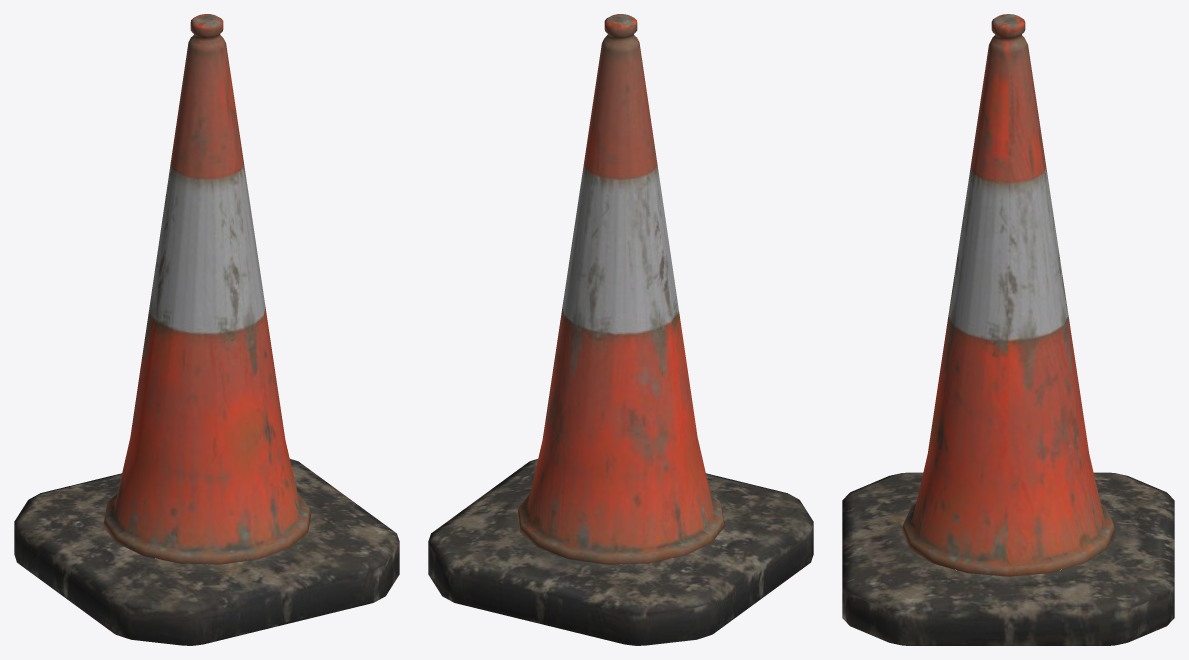
Rendered from road_cone.glb.
3 renders of one model, left to right at view 1: azimuth 30°, elevation 25°; view 2: azimuth 150°, elevation 25°; view 3: azimuth 270°, elevation 25°, orthographic. The views are drawn at different scales.
Visible parts, largest first — view 1: road_cone_a_LOD0; view 2: road_cone_a_LOD0; view 3: road_cone_a_LOD0.
Boxes of the visible parts, left/top/right/bottom form: road_cone_a_LOD0: left=14, top=14, right=399, bottom=645; road_cone_a_LOD0: left=428, top=14, right=813, bottom=645; road_cone_a_LOD0: left=842, top=14, right=1174, bottom=645.
Size of what is drawn, in the model's own units: 0.5664 by 1.05 by 0.5664.
1 material, 1 textured.
